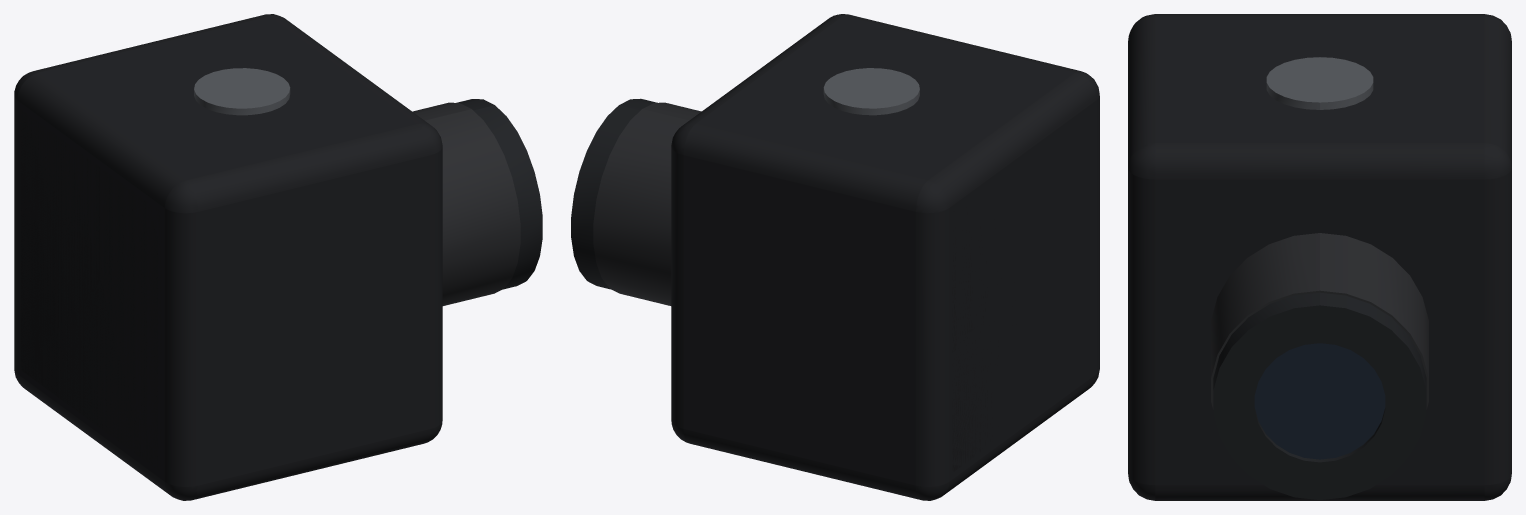
The model's file is betafpv-c04.glb.
3 views of the same model, side by side, from view 1: azimuth 30°, elevation 25°; view 2: azimuth 150°, elevation 25°; view 3: azimuth 270°, elevation 25° (orthographic). The views are drawn at different scales.
Visible parts, largest first — view 1: body, rear_board, lens_barrel, lens_ring, mount_tab_right; view 2: body, lens_barrel, lens_ring, mount_tab_right, rear_board; view 3: body, lens_ring, lens_barrel, lens_glass, mount_tab_right.
Part boxes in pixels (bbox=[...]): body: bbox=[14, 14, 442, 500]; rear_board: bbox=[20, 110, 161, 469]; lens_barrel: bbox=[412, 102, 520, 305]; lens_ring: bbox=[456, 99, 542, 289]; mount_tab_right: bbox=[194, 68, 290, 115]; body: bbox=[671, 14, 1099, 500]; lens_barrel: bbox=[593, 102, 701, 305]; lens_ring: bbox=[571, 98, 657, 289]; mount_tab_right: bbox=[823, 68, 919, 115]; rear_board: bbox=[952, 207, 1016, 471]; body: bbox=[1128, 14, 1511, 500]; lens_ring: bbox=[1213, 292, 1426, 499]; lens_barrel: bbox=[1211, 233, 1428, 409]; lens_glass: bbox=[1254, 343, 1385, 459]; mount_tab_right: bbox=[1266, 57, 1373, 109].
Size of the model in its own units: 19 by 14.6 by 14.
